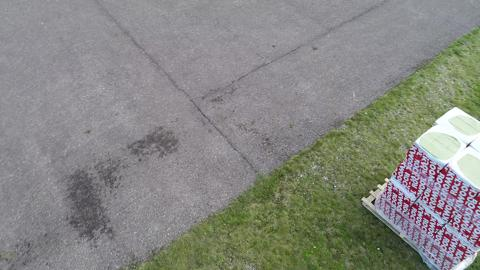RockwoolPallet: (375, 105, 479, 270)
